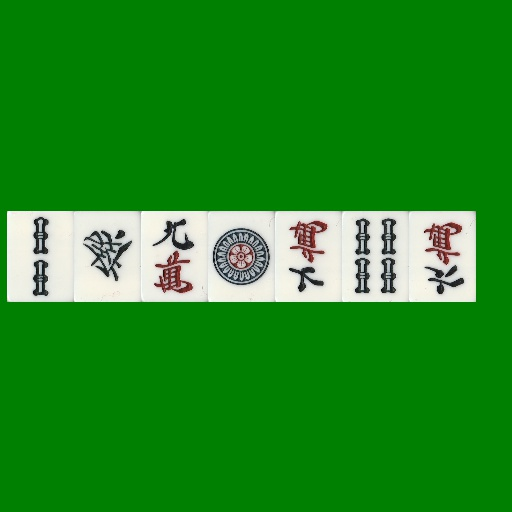1p: (208, 211, 275, 302)
2s: (7, 211, 74, 302)
4s: (342, 211, 409, 302)
6m: (409, 211, 476, 302)
7m: (275, 211, 342, 302)
9m: (141, 211, 208, 302)
hatsu: (74, 211, 141, 302)
